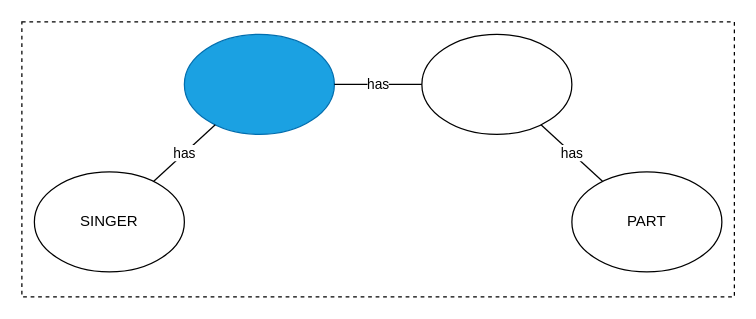
Image size: 756x319. Some labels were removed from this diagram. The shapes that lost their labels are listed below. From the top down, each one's centre as x and y in pixels, then its label:
At [258,83]: "MUSIC".
At [496,83]: "VERSION".
